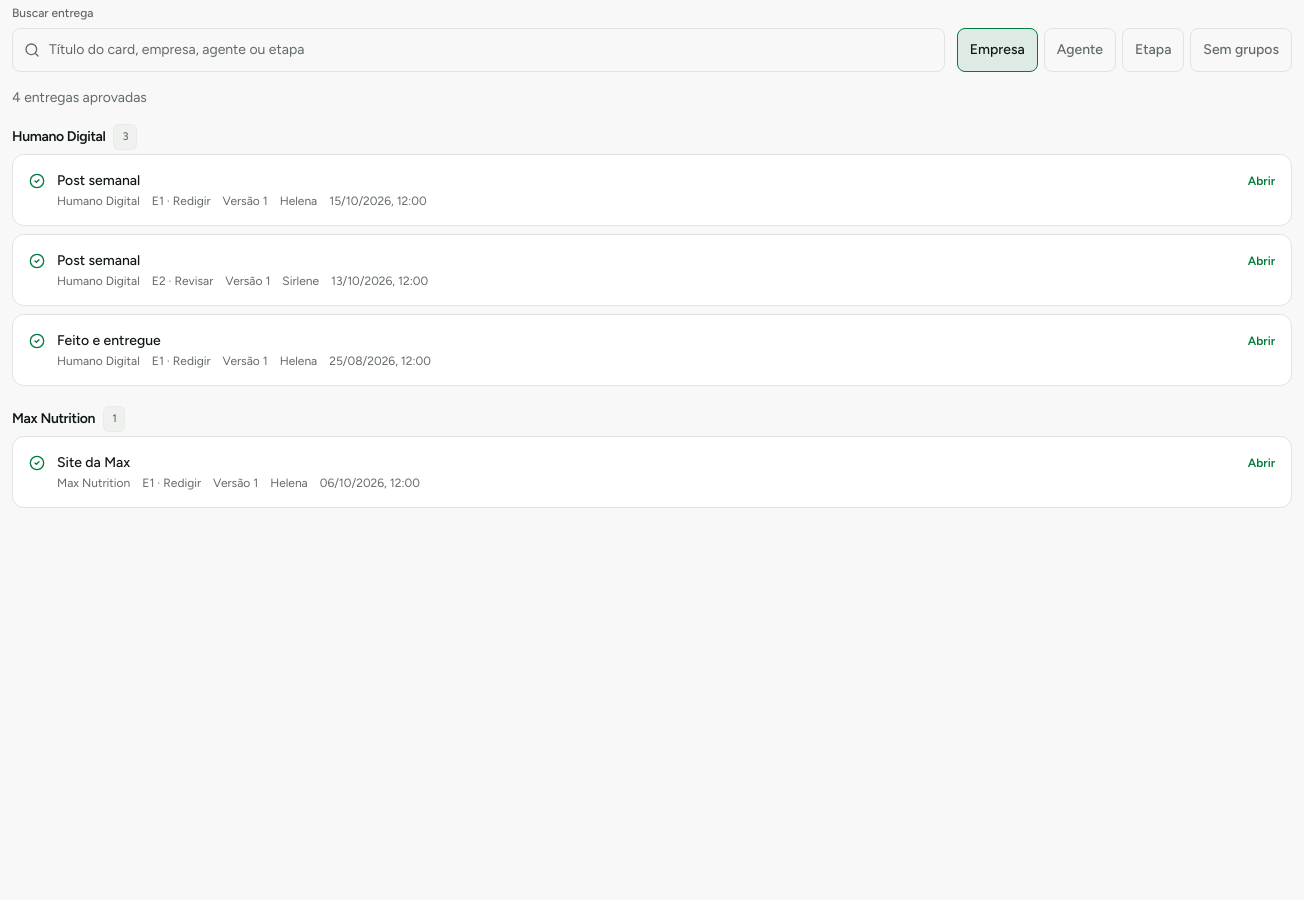
Test: abre a entrega, carrega o texto do card uma vez e mostra linhas legíveis
Click the button "Post semanal": (99, 180) [13,155,1291,225]
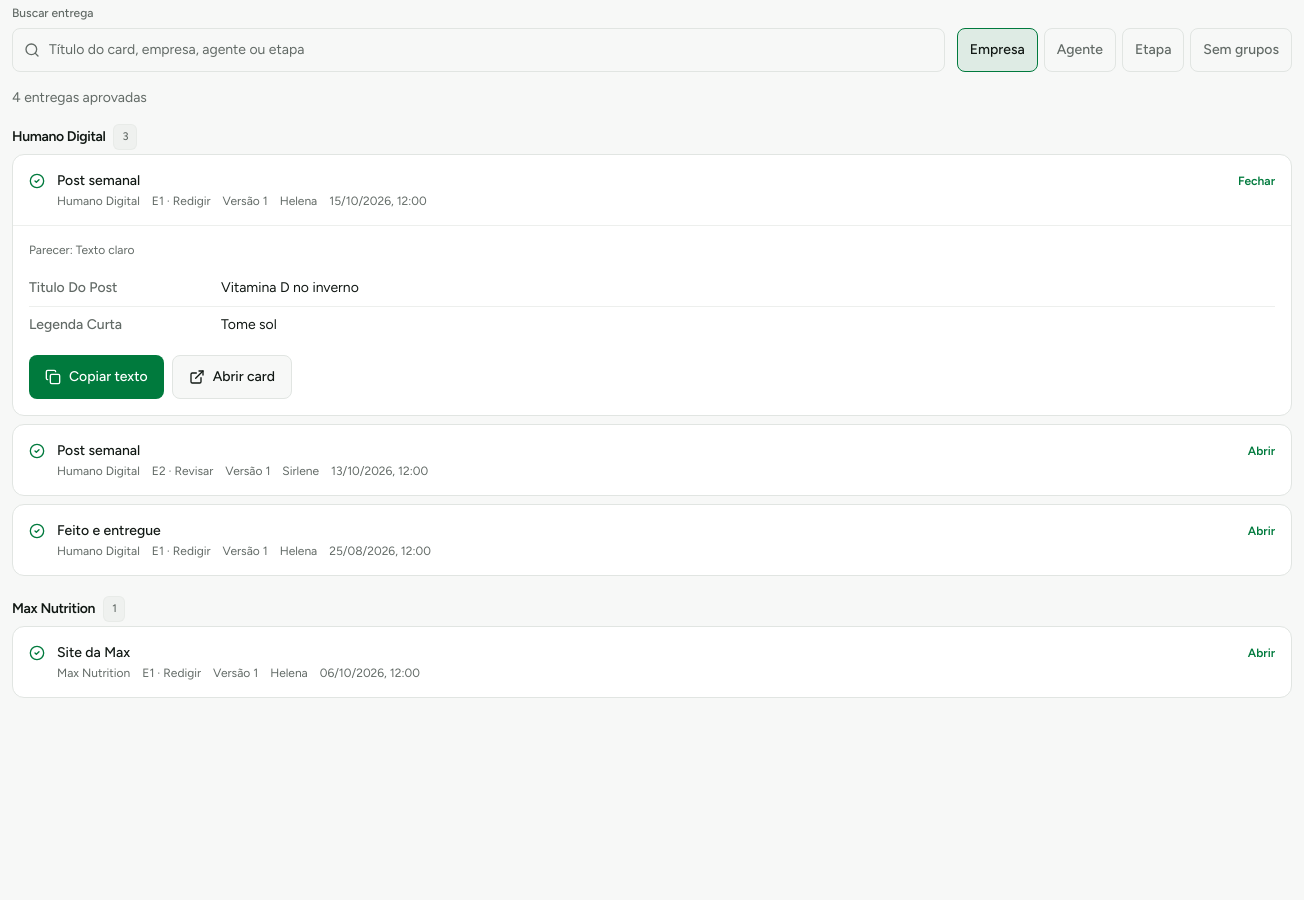
Check: the button "Post semanal" is expanded, box [13,155,1291,225]
Check: the text "Vitamina D no inverno" is shown, box [221,279,359,296]
Check: the text "titulo do post" is shown, box [29,279,118,296]
Note: segunda entrega do mesmo card reaproveita o detalhe já pedido
Click the button "Post semanal": (99, 450) [13,425,1291,495]
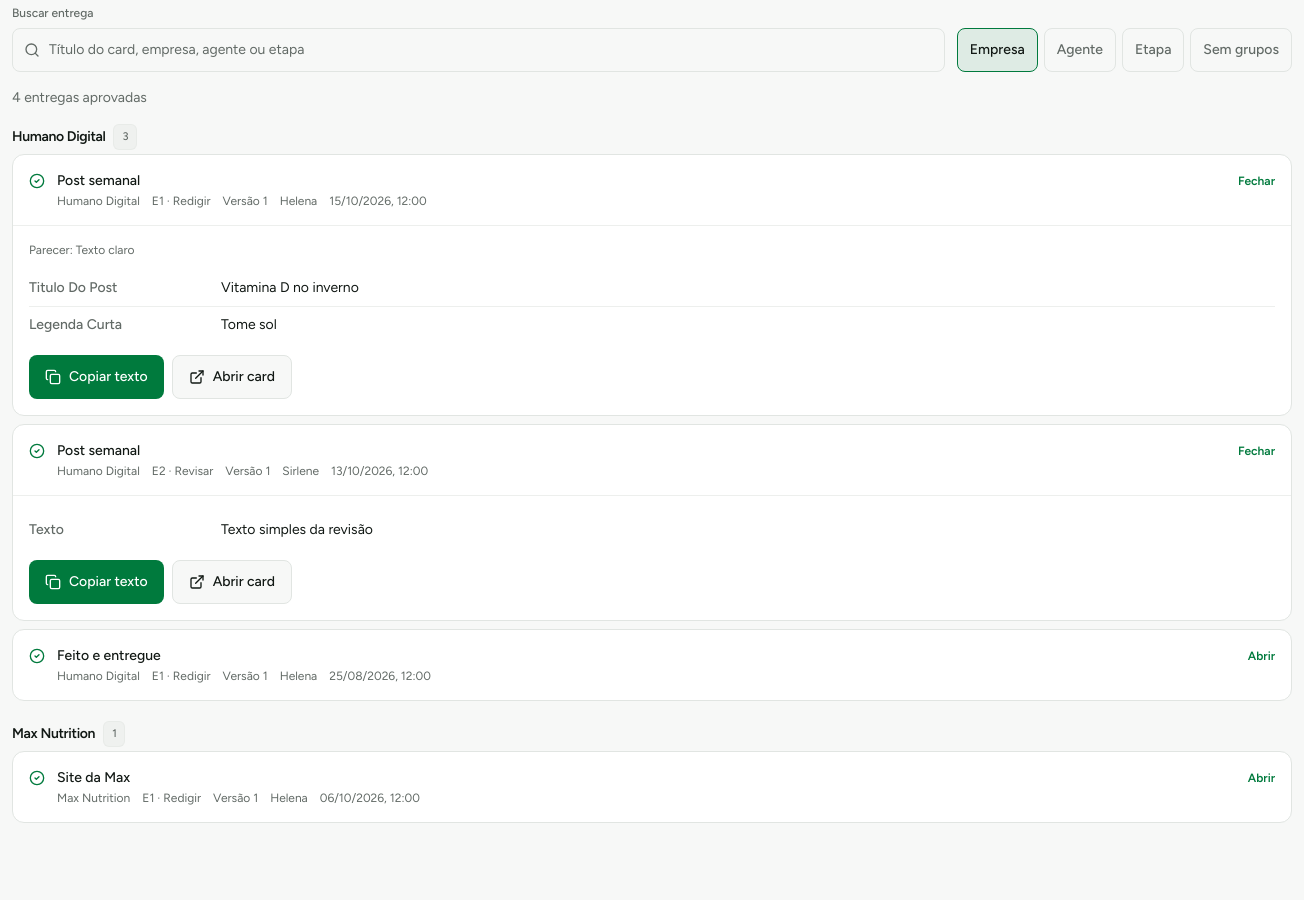
Check: the text "Texto simples da revisão" is shown, box [221,521,373,538]
